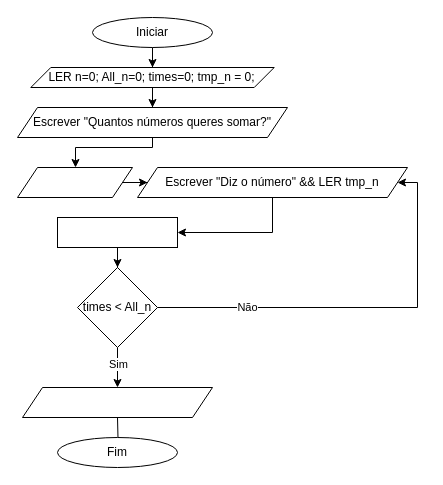
This 443x485 diagram has some shape labels left out. The box of each missing label's shape, as (x1, y1, x2, y2) in pixels:
Escrever "o resultado foi: " n: (22, 386, 212, 418)
LER All_n: (16, 166, 132, 198)
n += tmp_n; times++;: (56, 216, 178, 248)
